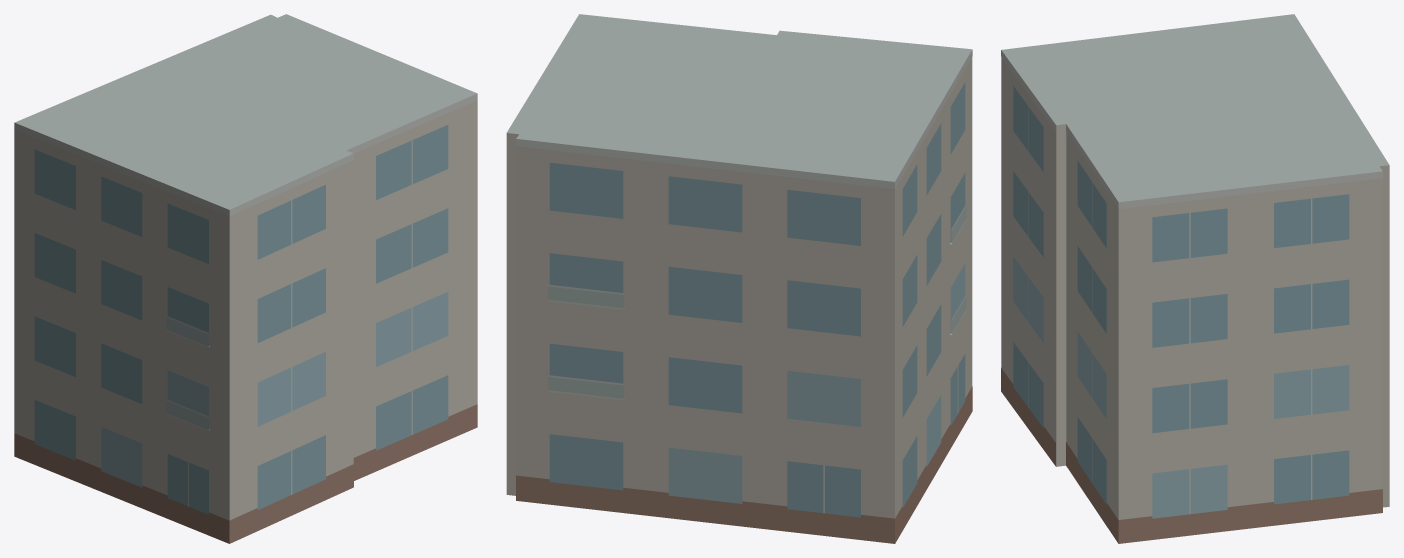
Rendered from survey-upis-32852241.glb.
The picture shows the model from 3 angles, left to right: view 1: azimuth 30°, elevation 25°; view 2: azimuth 150°, elevation 25°; view 3: azimuth 270°, elevation 25°; orthographic projection. The views are drawn at different scales.
Visible parts, largest first — view 1: survey-upis-32852241.tmp; view 2: survey-upis-32852241.tmp; view 3: survey-upis-32852241.tmp.
Part boxes in pixels (x1,y1,x2,y2): survey-upis-32852241.tmp: (14,14,477,543); survey-upis-32852241.tmp: (506,14,972,543); survey-upis-32852241.tmp: (1001,14,1389,543).
Bounding box in the file's own units: 14.37 × 12.15 × 12.53.
